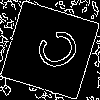C: (25, 25, 83, 79)
